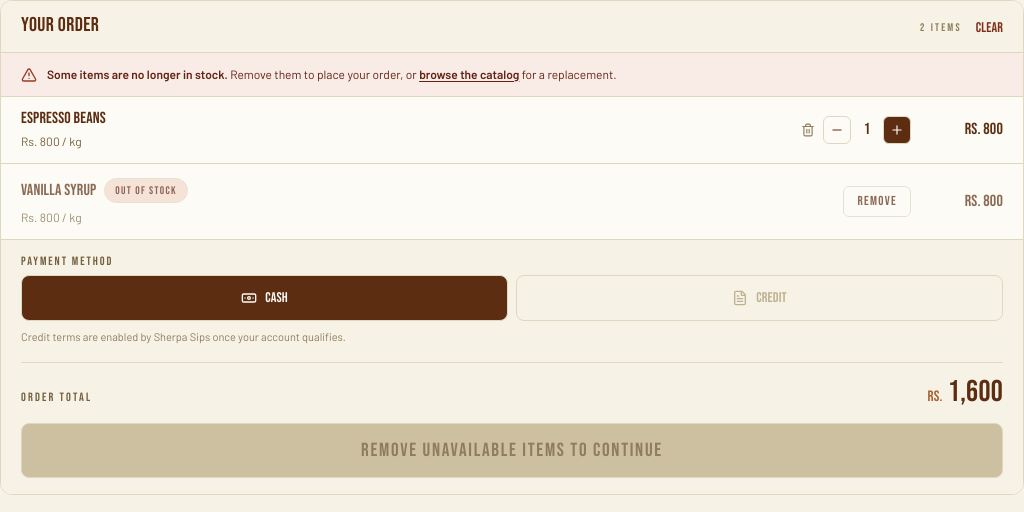
Test: CartSection › removing the out-of-stock item re-enables Place Order
This screenshot has width=1024, height=512.
Expected: the text "Vanilla Syrup" is shown, [21,182,96,198]
Click the button "Remove" at [877, 202], box [843,186,911,217]
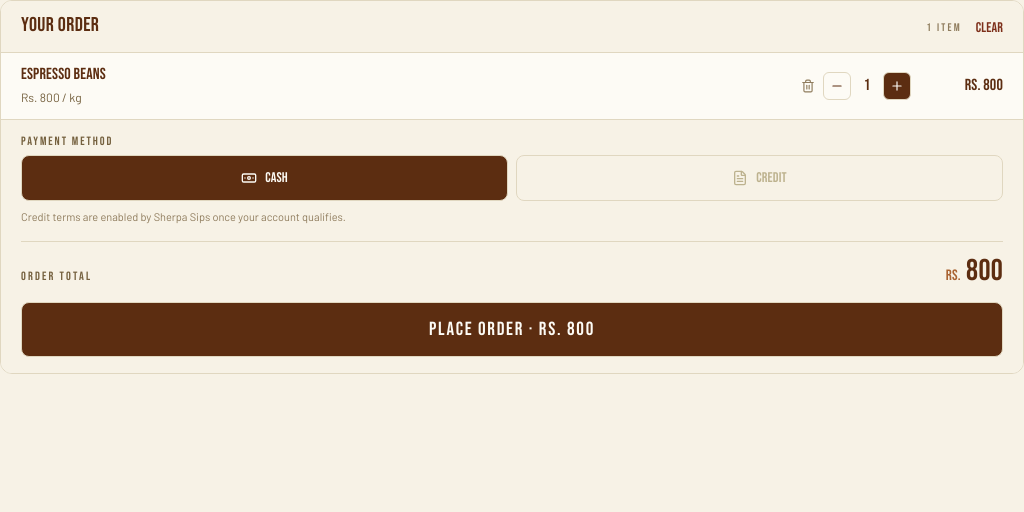
Expected: the text "Vanilla Syrup" is gone
Expected: the button "Place Order · Rs. 800" is enabled, [21,302,1003,357]
